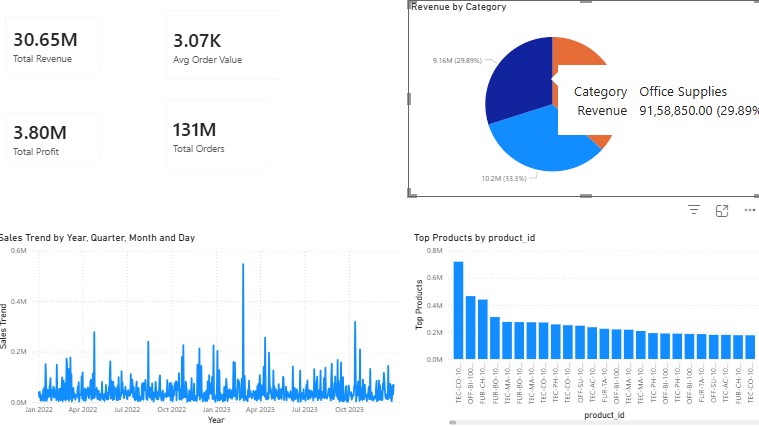

This screenshot's page, from the dashboard's own definition file:
{"tool":"powerbi","page":{"name":"Page 1","canvas":[1280,720],"ordinal":0},"visuals":[{"type":"cardVisual","fields":{"Data":["Sum(fact_sales.revenue)"]},"box":[0,10,193.3,128.3],"z":0},{"type":"cardVisual","fields":{"Data":["Sum(fact_sales.profit)"]},"box":[0,171.7,193.3,113.3],"z":1000},{"type":"lineChart","fields":{"Y":["Sum(fact_sales.revenue)"],"Category":["dim_date.order_date.Variation.Date Hierarchy.Year","dim_date.order_date.Variation.Date Hierarchy.Quarter","dim_date.order_date.Variation.Date Hierarchy.Month","dim_date.order_date.Variation.Date Hierarchy.Day"]},"box":[0,385,693.3,328.3],"z":2000},{"type":"clusteredColumnChart","fields":{"Category":["dim_product.product_id"],"Y":["Sum(fact_sales.revenue)"]},"box":[693.3,385,586.7,328.3],"z":3000},{"type":"pieChart","fields":{"Category":["dim_product.category"],"Y":["Sum(fact_sales.revenue)"]},"box":[688.3,0,591.7,328.3],"z":4000},{"type":"cardVisual","fields":{"Data":["Sum(fact_sales.order_id)"]},"box":[266.7,150,206.7,148.3],"z":5000},{"type":"cardVisual","fields":{"Data":["dim_date.Average Order Value"]},"box":[266.7,0,226.7,150],"z":6000}]}

Visuals, with their boxes in screenshot pixels (x1, y1, x2, y2), scaled from the page's 1280x720 canvas onto the 759x426 screenshot:
cardVisual - Sum(fact_sales.revenue): region(0, 6, 115, 82)
cardVisual - Sum(fact_sales.profit): region(0, 102, 115, 169)
lineChart - Sum(fact_sales.revenue) x dim_date.order_date.Variation.Date Hierarchy.Year: region(0, 228, 411, 422)
clusteredColumnChart - dim_product.product_id x Sum(fact_sales.revenue): region(411, 228, 758, 422)
pieChart - dim_product.category x Sum(fact_sales.revenue): region(408, 0, 758, 194)
cardVisual - Sum(fact_sales.order_id): region(158, 89, 281, 176)
cardVisual - dim_date.Average Order Value: region(158, 0, 293, 89)
